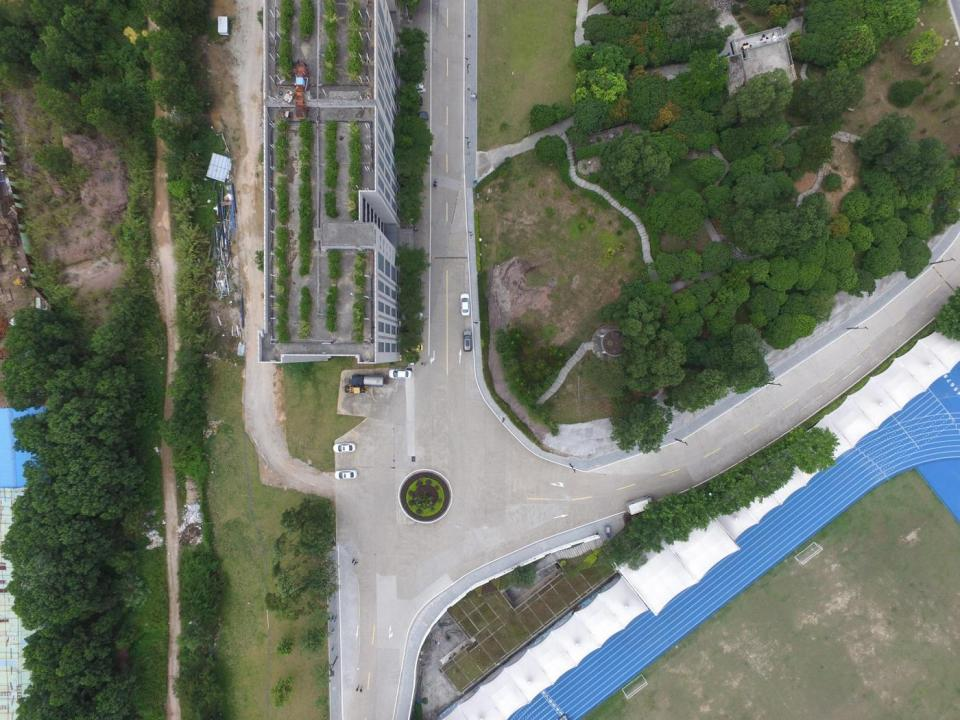car: (349, 374, 384, 387), (399, 309, 425, 323), (458, 292, 470, 316), (334, 468, 357, 480), (332, 442, 356, 453), (461, 328, 472, 352), (406, 112, 430, 123), (404, 82, 426, 94), (386, 368, 411, 378), (399, 343, 423, 353)
truck: (625, 492, 654, 516)
